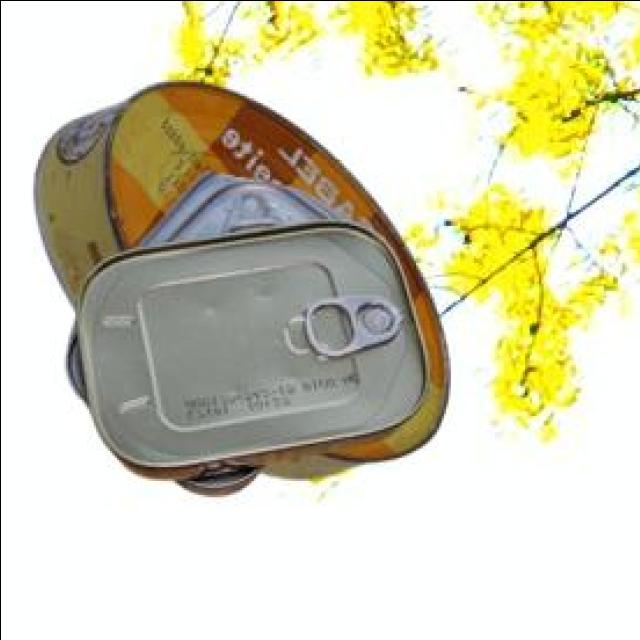logam: (31, 85, 444, 481), (61, 175, 426, 497)
